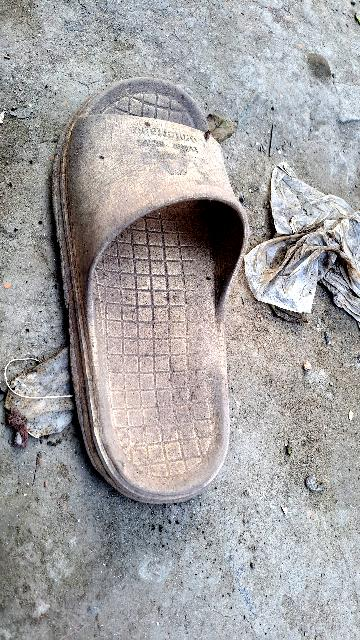sandal: (48, 66, 240, 507)
